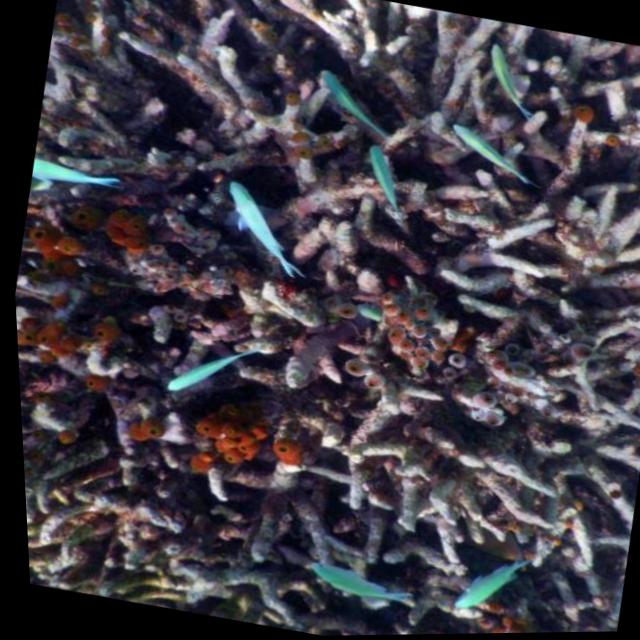Dead Coral: (32, 0, 621, 535)
